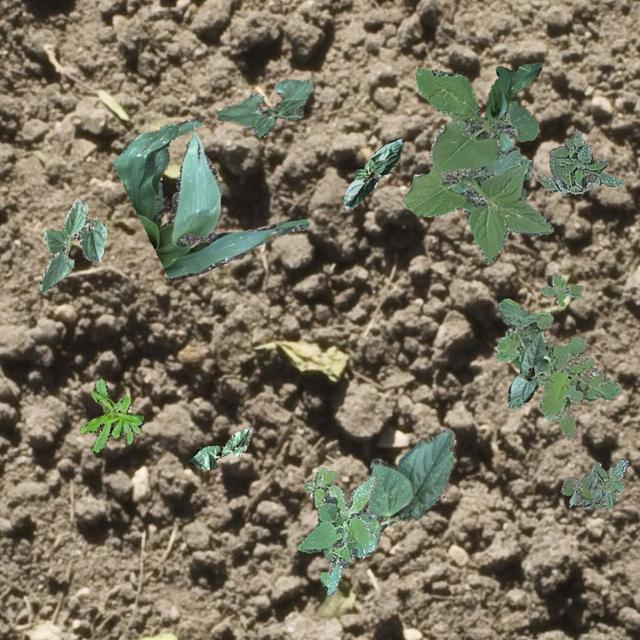crop: (112, 116, 308, 280), (322, 428, 454, 560), (484, 62, 540, 196), (40, 198, 106, 292), (216, 77, 312, 136), (342, 138, 402, 208), (506, 330, 550, 408), (188, 428, 250, 468)
weed: (402, 66, 552, 262), (496, 298, 620, 437), (296, 466, 376, 594), (536, 128, 622, 194), (78, 378, 142, 452), (560, 458, 626, 508), (540, 272, 582, 306)
